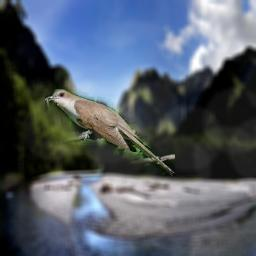Cuckoo: (45, 89, 175, 176)
